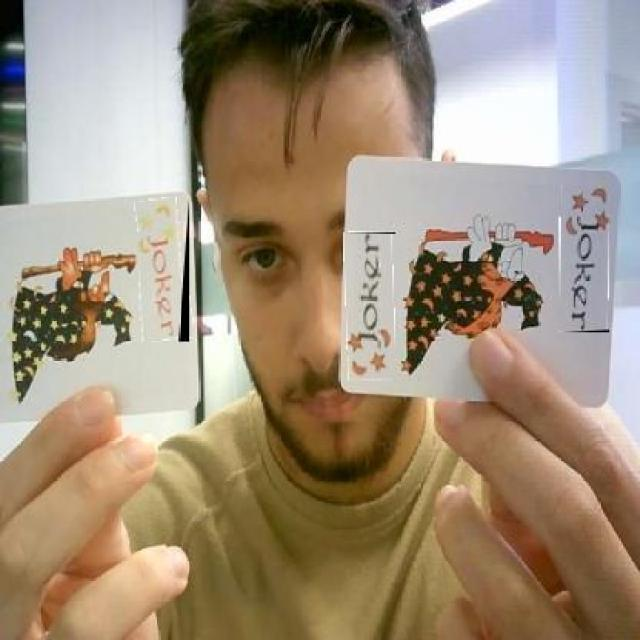RED JOKER: (344, 232, 396, 380), (138, 197, 190, 341), (560, 185, 609, 332)
